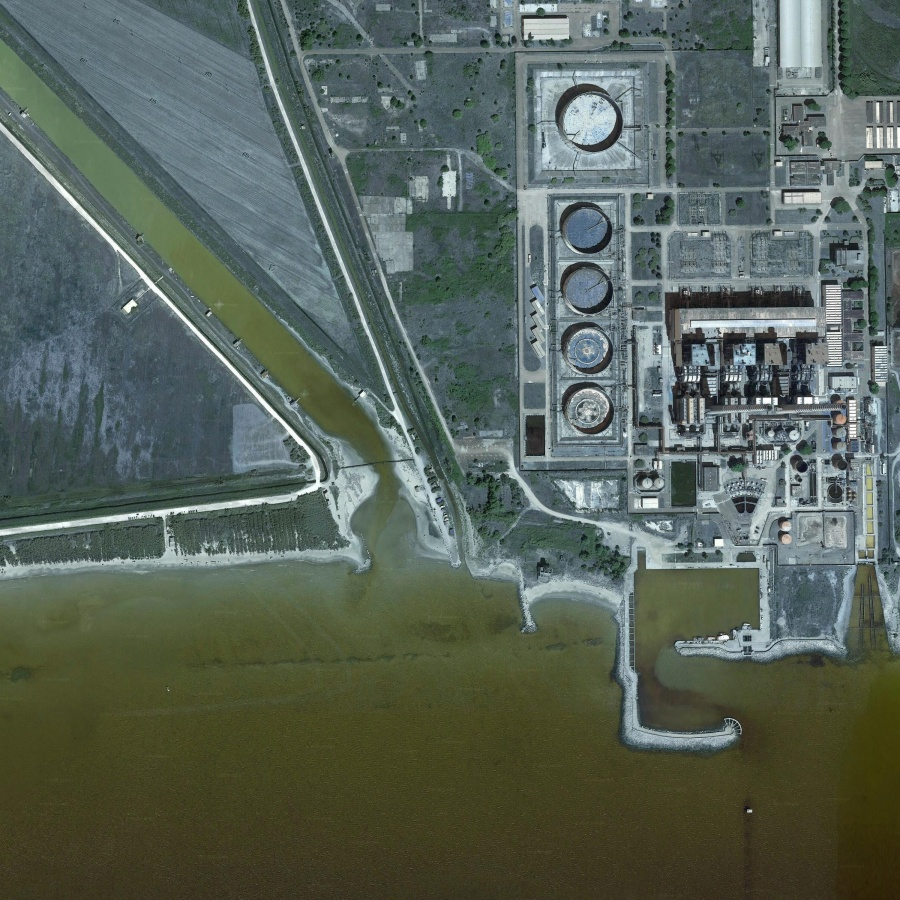PowerPlant: (512, 52, 662, 468)
